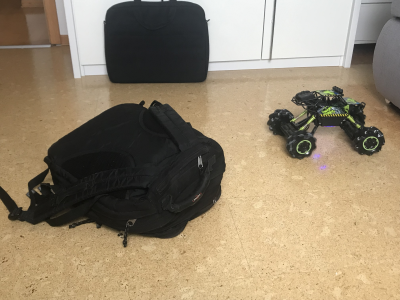remote control car: (266, 83, 386, 160)
